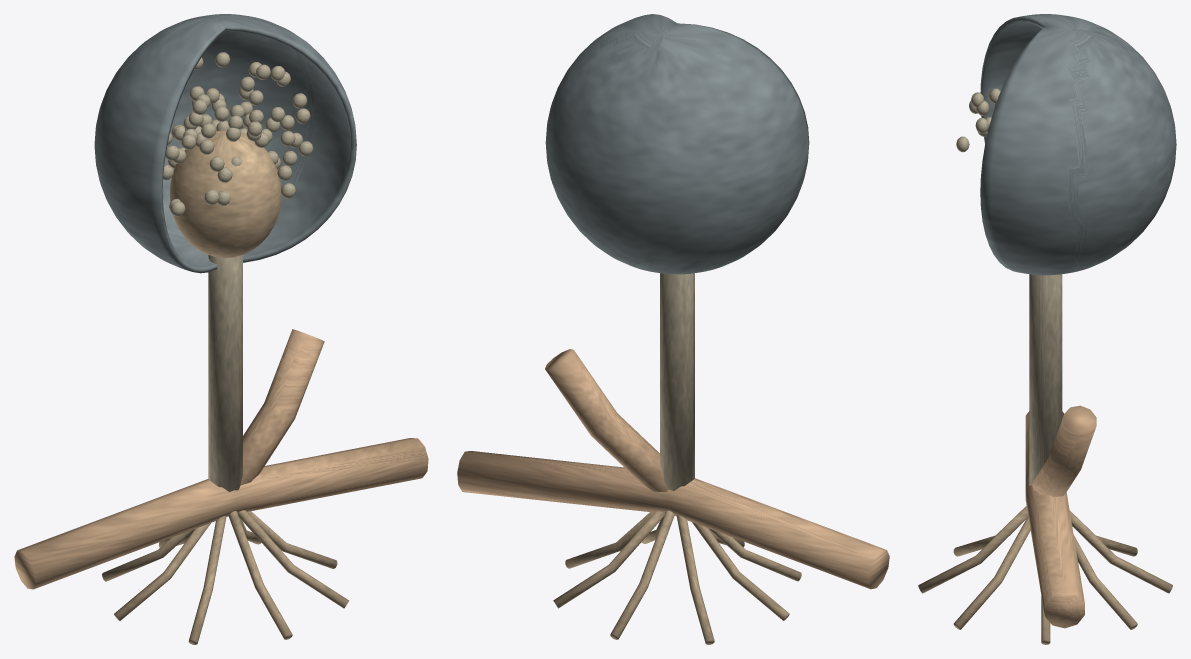
File: cutaway.glb
3 renders of one model, left to right at view 1: azimuth 30°, elevation 25°; view 2: azimuth 150°, elevation 25°; view 3: azimuth 270°, elevation 25°, orthographic.
Parts seen in each view (by area): view 1: esporangio_mesh, hifas_mesh, columela_mesh, esporos_mesh, conidioforo_mesh, rizoides_mesh; view 2: esporangio_mesh, hifas_mesh, rizoides_mesh, conidioforo_mesh; view 3: esporangio_mesh, hifas_mesh, conidioforo_mesh, rizoides_mesh, esporos_mesh.
Part boxes in pixels (<box>): esporangio_mesh: <box>94,14,356,273</box>; hifas_mesh: <box>14,329,428,589</box>; columela_mesh: <box>169,130,281,257</box>; esporos_mesh: <box>163,52,313,216</box>; conidioforo_mesh: <box>208,255,242,491</box>; rizoides_mesh: <box>102,510,349,644</box>; esporangio_mesh: <box>545,14,809,274</box>; hifas_mesh: <box>457,349,889,589</box>; rizoides_mesh: <box>553,510,801,644</box>; conidioforo_mesh: <box>660,273,694,491</box>; esporangio_mesh: <box>980,14,1176,275</box>; hifas_mesh: <box>1025,405,1096,628</box>; conidioforo_mesh: <box>1029,274,1062,485</box>; rizoides_mesh: <box>918,506,1172,644</box>; esporos_mesh: <box>956,88,1000,152</box>.
Bounding box in the file's own units: 2.43 × 3.25 × 1.34.
6 materials, 6 textured.
